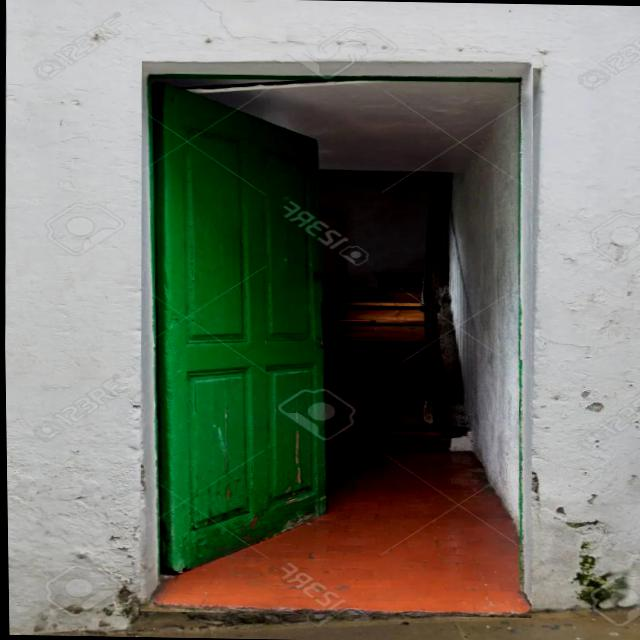semi-open: (132, 49, 540, 618)
